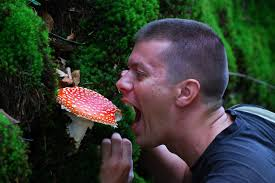Amanita muscaria: (53, 84, 119, 137)
